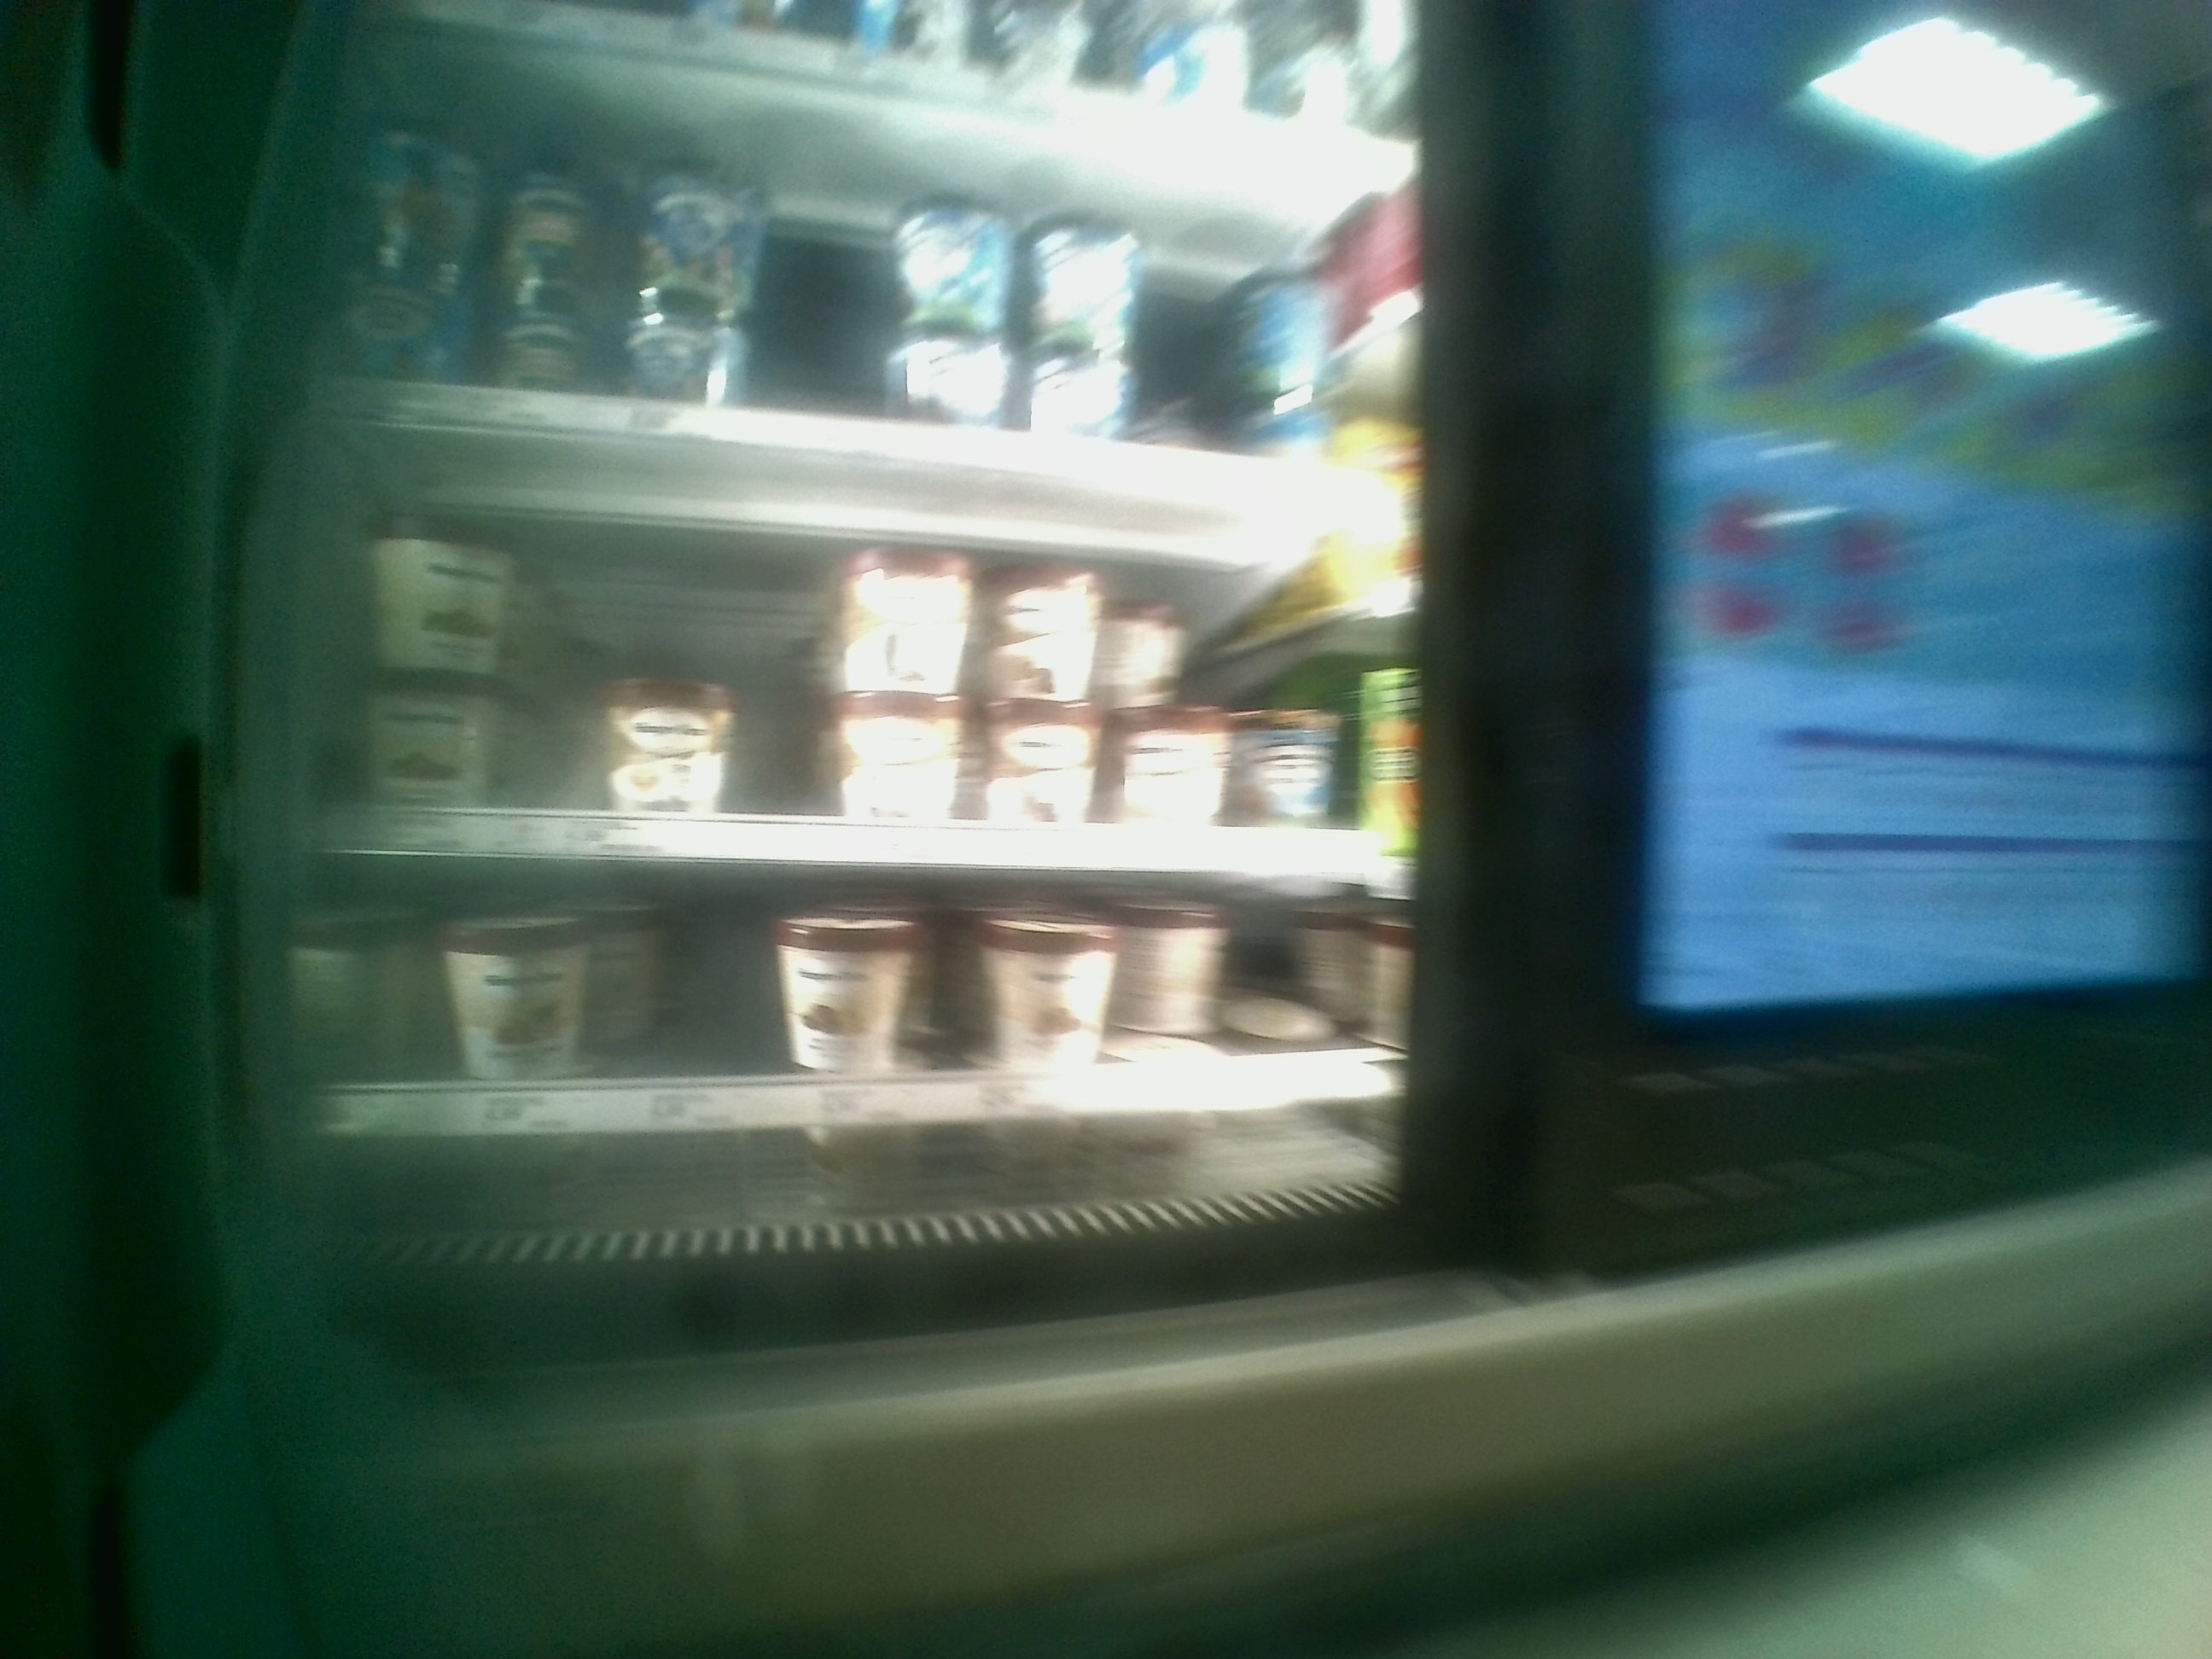shelf: (310, 410, 1406, 882), (308, 854, 1400, 1218)
